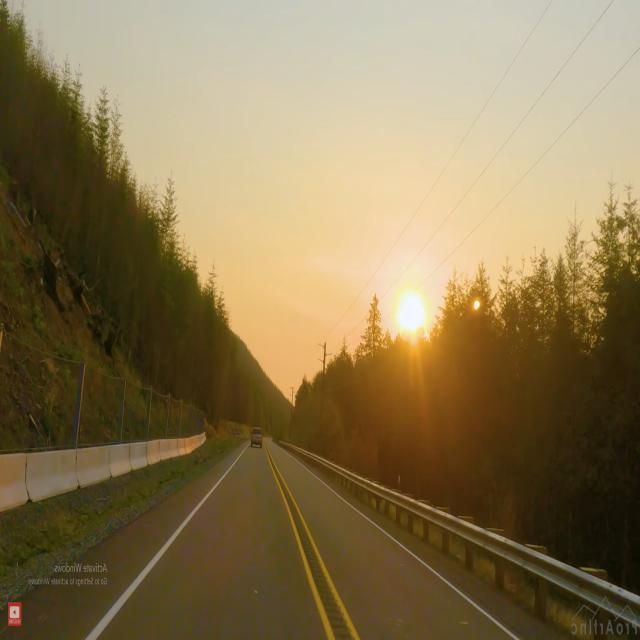sun: (391, 268, 432, 340)
